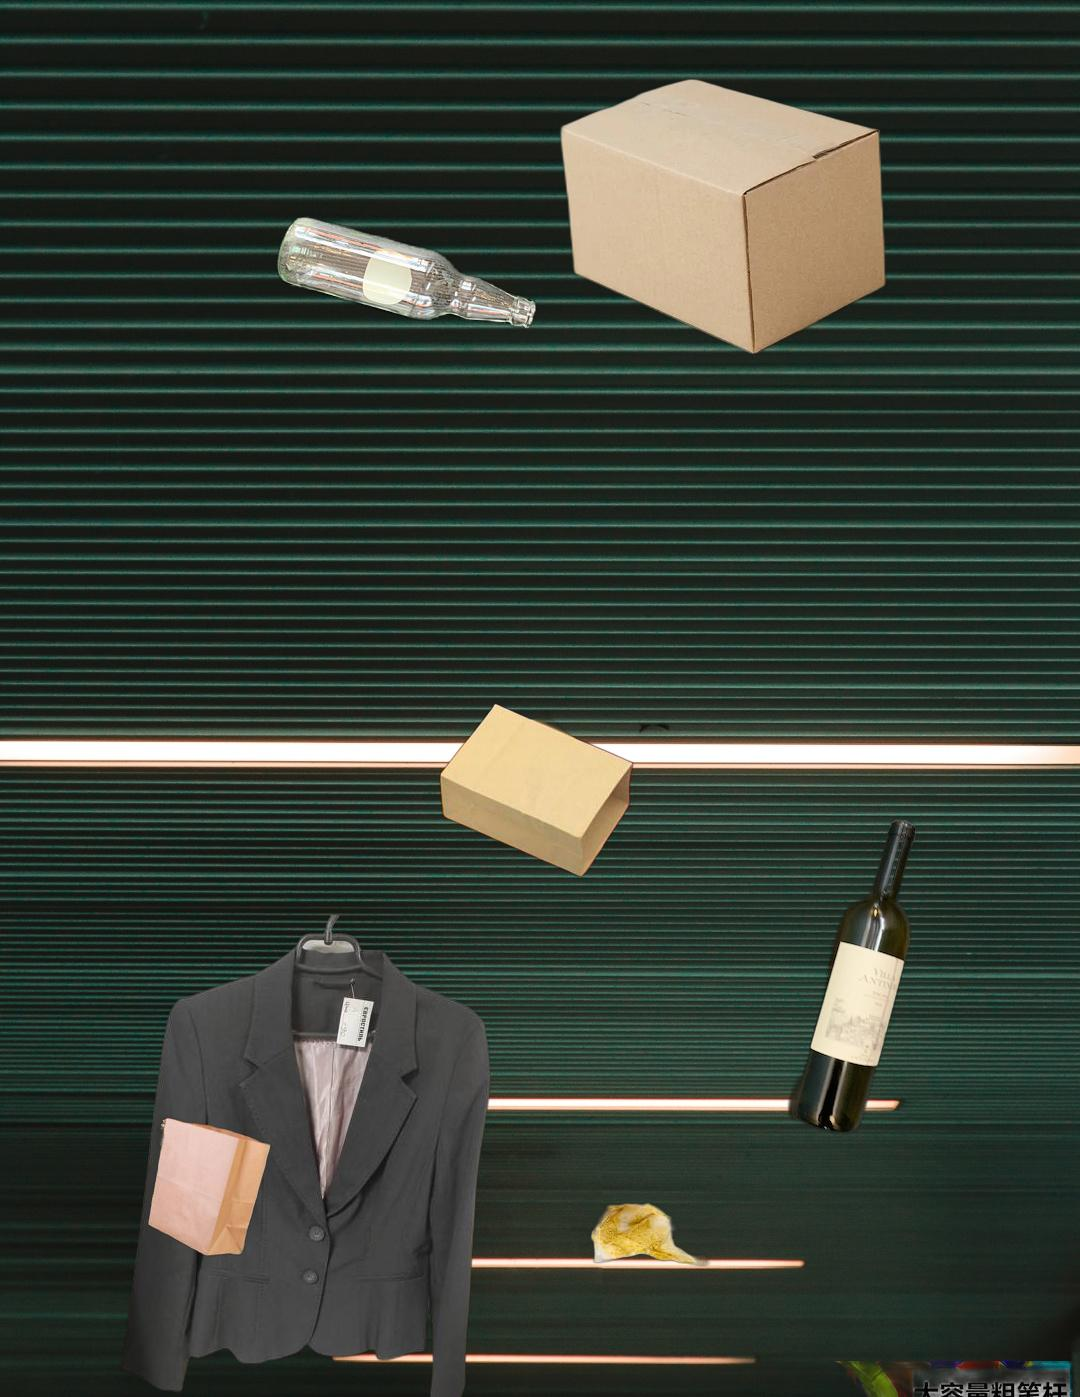clothes: (118, 915, 493, 1397)
glass: (785, 813, 921, 1140), (272, 211, 541, 335)
paper-bag: (439, 700, 636, 931), (145, 1115, 273, 1277)
penholder: (573, 1361, 1073, 1397)
trash: (585, 1199, 714, 1269)
trashbox-cardboard: (555, 75, 891, 357)
